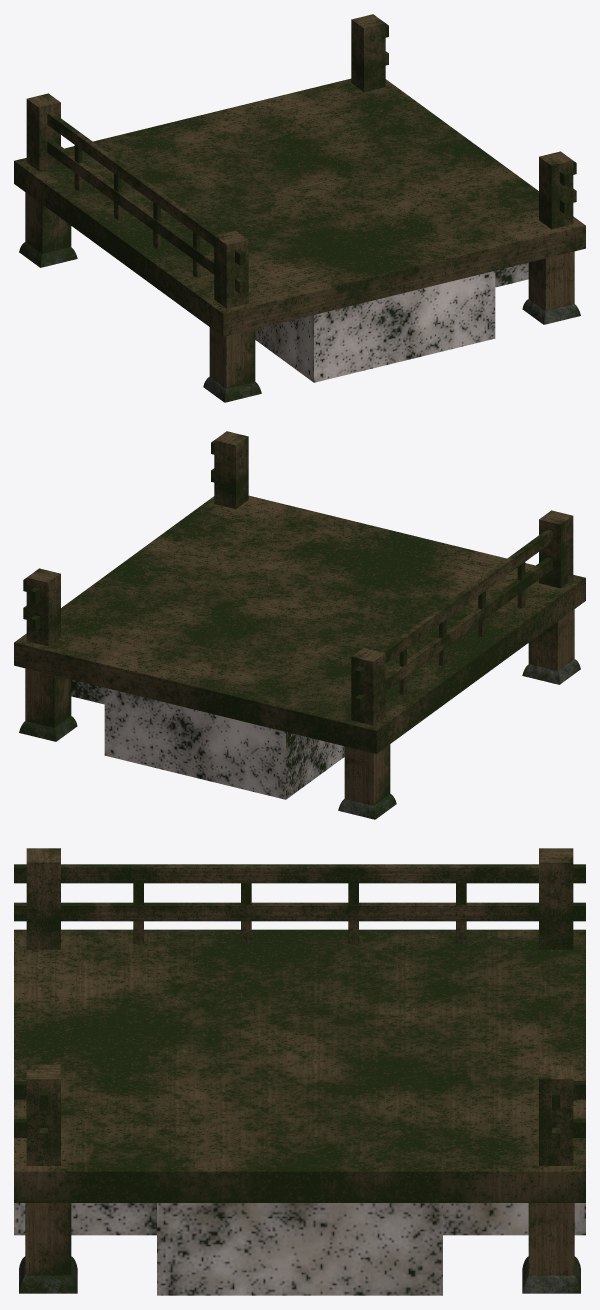
The model's file is shrine_floor_outside_tjunction_02.fbx.
3 renders of one model, top to bottom at view 1: azimuth 30°, elevation 25°; view 2: azimuth 150°, elevation 25°; view 3: azimuth 270°, elevation 25°, orthographic. The views are drawn at different scales.
Parts seen in each view (by area): view 1: shrine_floor_outside_tjunction_02; view 2: shrine_floor_outside_tjunction_02; view 3: shrine_floor_outside_tjunction_02.
Boxes of the visible parts, x1,y1,x2,y2 form: shrine_floor_outside_tjunction_02: (14, 14, 585, 402); shrine_floor_outside_tjunction_02: (14, 431, 585, 819); shrine_floor_outside_tjunction_02: (14, 848, 585, 1295).
Size of the model in its own units: 330 by 134 by 330.
1 material, 1 textured.
